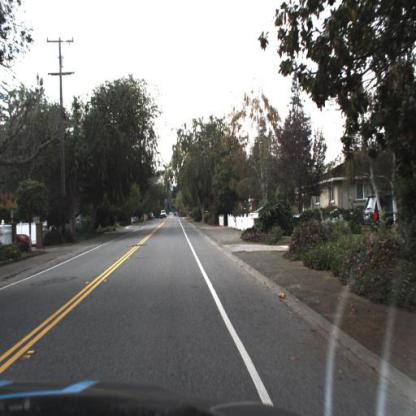car: (364, 195, 416, 238), (1, 229, 33, 249), (162, 211, 167, 221)
